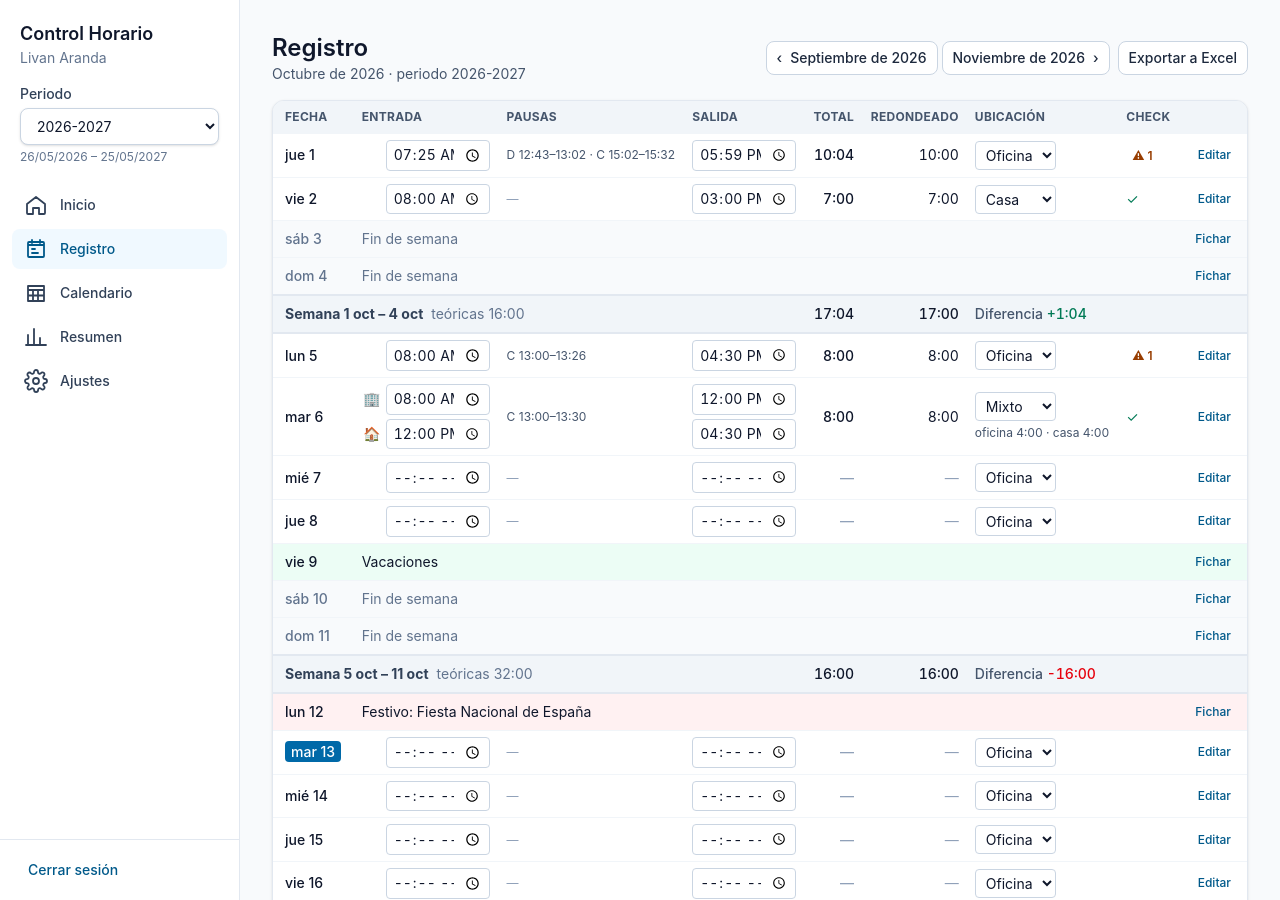
Test: Registro mensual › el botón Editar abre el editor completo del día
Click the button with aria-label "Abrir el editor del jue 1": {"x": 1214, "y": 155} x1=1190 y1=143 x2=1239 y2=167
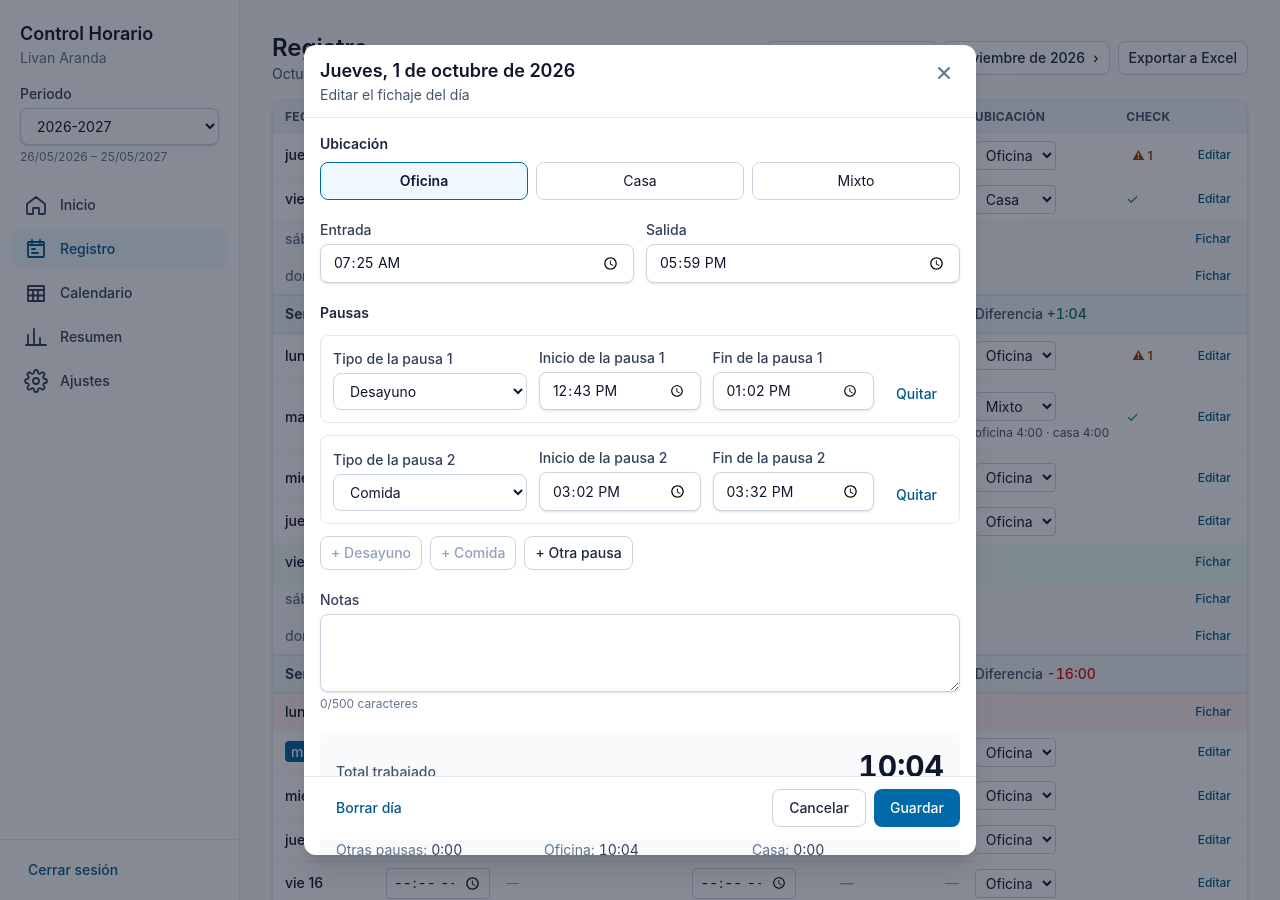
Expected: the text with test id "live-total" reads "10:04", x1=858 y1=748 x2=944 y2=784
